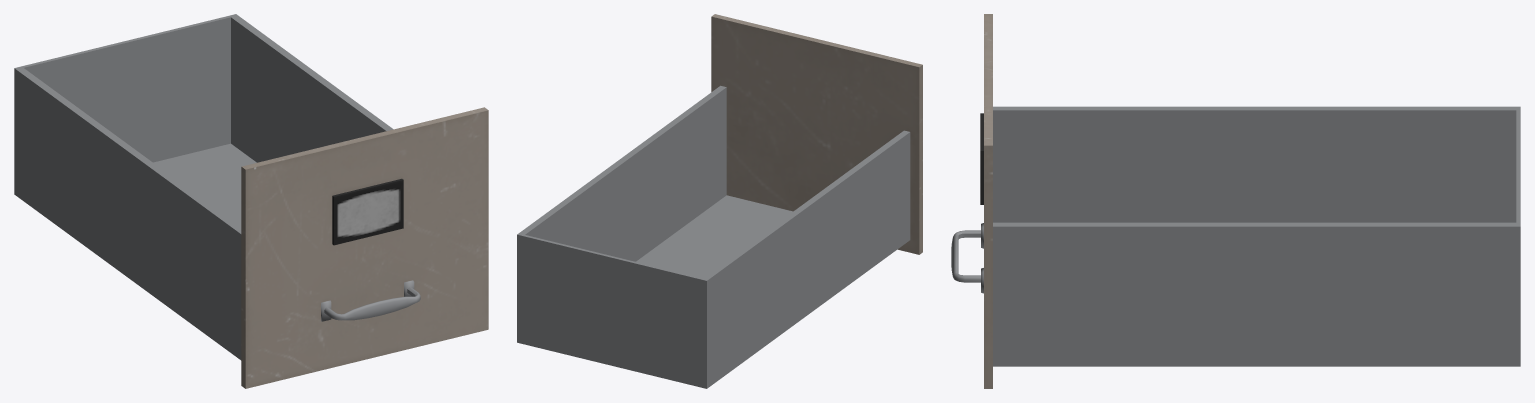
The model's file is SM_Filecabinet_01_fc1_drawer4.fbx.
The picture shows the model from 3 angles, left to right: view 1: azimuth 30°, elevation 25°; view 2: azimuth 150°, elevation 25°; view 3: azimuth 270°, elevation 25°; orthographic projection. The views are drawn at different scales.
Parts seen in each view (by area): view 1: SM_Filecabinet_01_fc1_drawer4; view 2: SM_Filecabinet_01_fc1_drawer4; view 3: SM_Filecabinet_01_fc1_drawer4.
Boxes of the visible parts, left/top/right/bottom form: SM_Filecabinet_01_fc1_drawer4: left=14, top=14, right=488, bottom=388; SM_Filecabinet_01_fc1_drawer4: left=517, top=14, right=922, bottom=388; SM_Filecabinet_01_fc1_drawer4: left=951, top=14, right=1520, bottom=388.
Bounding box in the file's own units: 33.99 × 62.16 × 29.3.
1 material, 1 textured.
